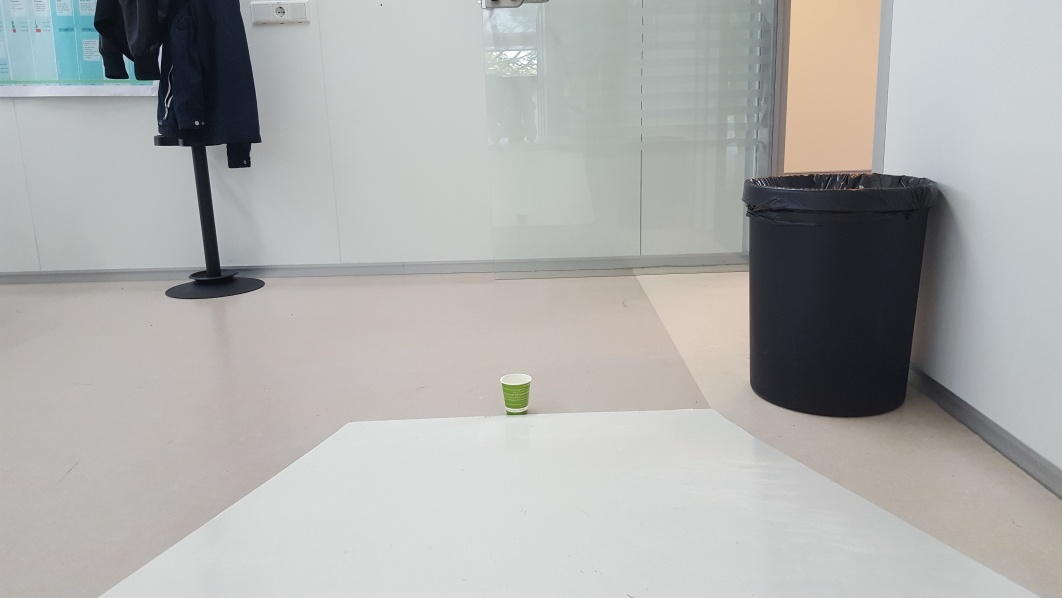cup: (500, 367, 532, 415)
